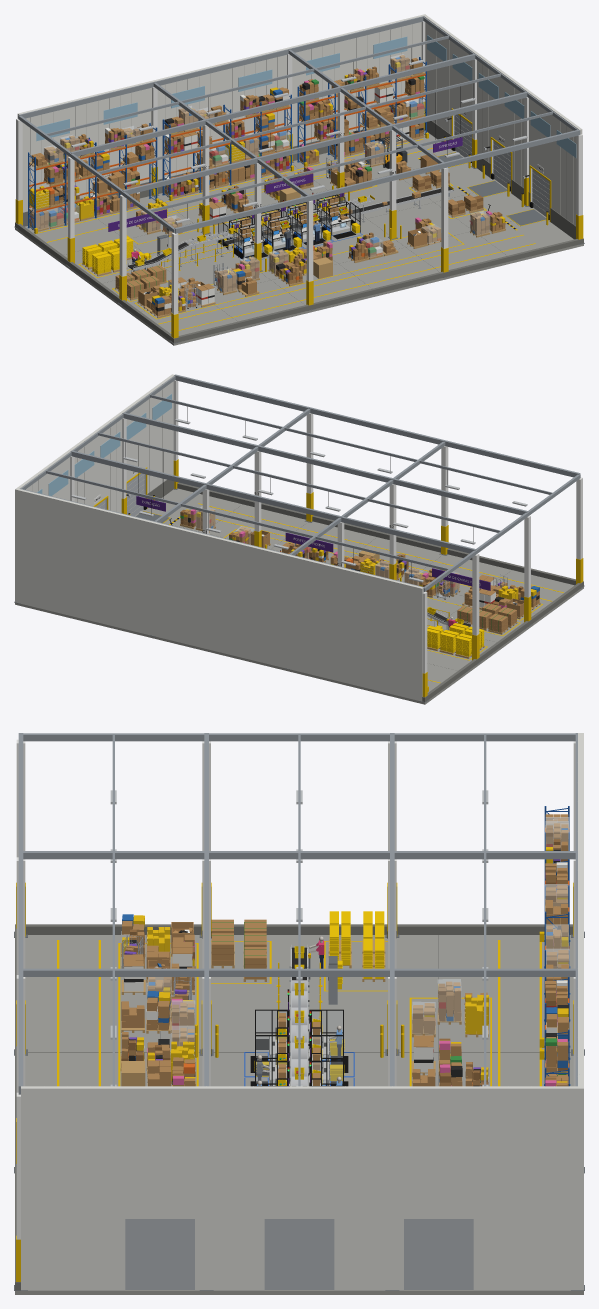
File: layout-marketplace-mesa-android.glb
3 renders of one model, top to bottom at view 1: azimuth 30°, elevation 25°; view 2: azimuth 150°, elevation 25°; view 3: azimuth 270°, elevation 25°, orthographic. The views are drawn at different scales.
Visible parts, largest first — view 1: Layout_Android_Export; view 2: Layout_Android_Export; view 3: Layout_Android_Export.
Part boxes in pixels (<box>): Layout_Android_Export: <box>14,14,584,345</box>; Layout_Android_Export: <box>14,374,584,704</box>; Layout_Android_Export: <box>14,733,584,1294</box>.
Bounding box in the file's own units: 2.03 × 0.5444 × 1.37.
